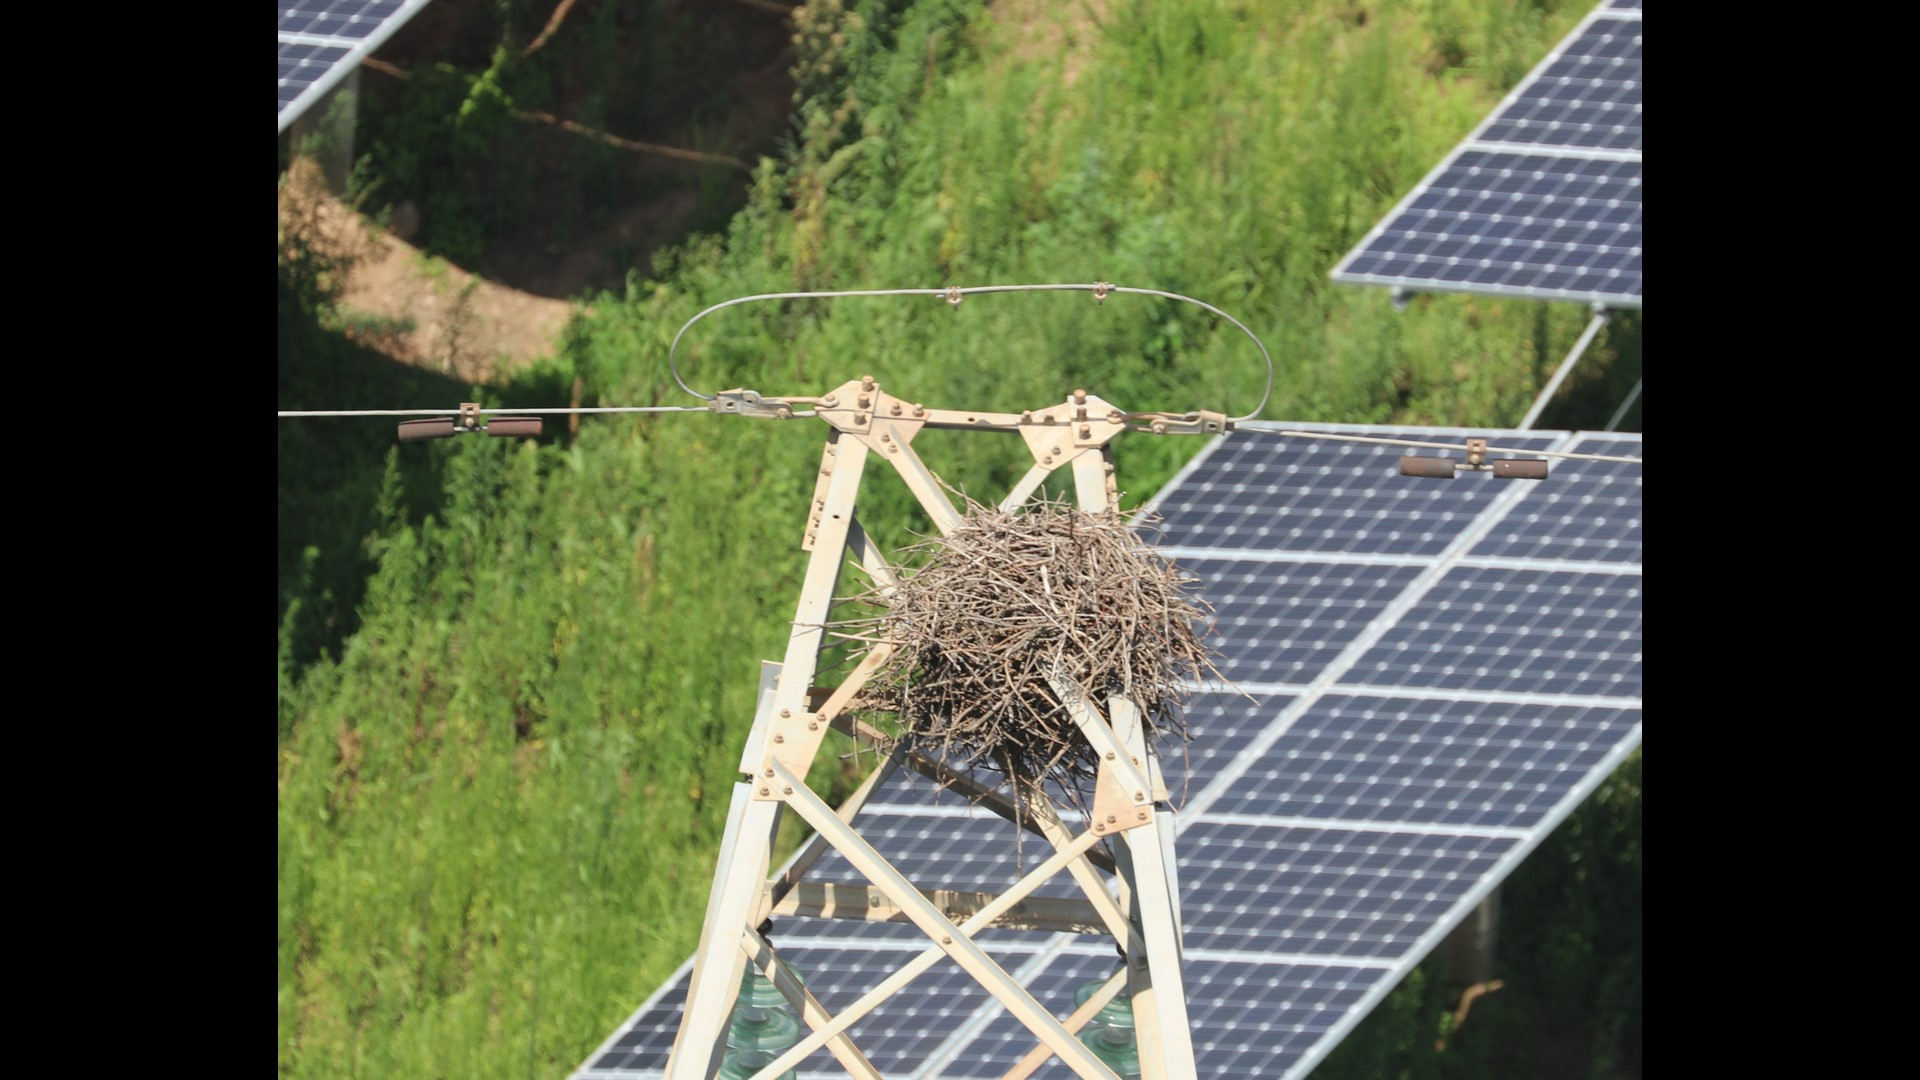niaowo: (849, 481, 1213, 793)
